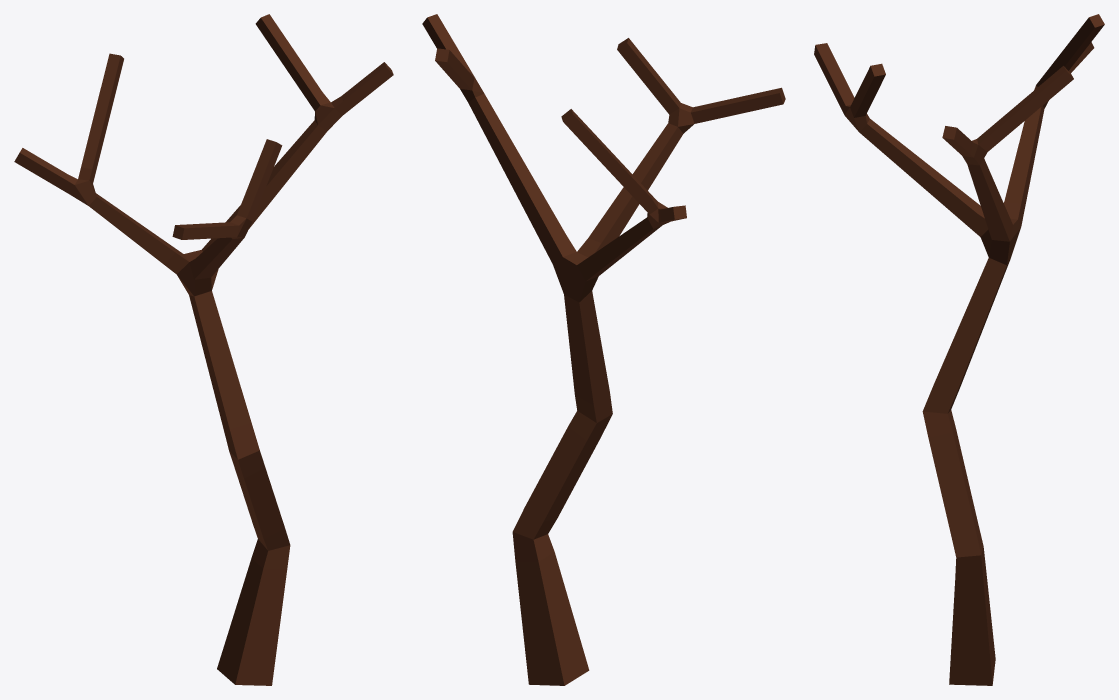
Rendered from DeadTree1.fbx.
3 views of the same model, side by side, from view 1: azimuth 30°, elevation 25°; view 2: azimuth 150°, elevation 25°; view 3: azimuth 270°, elevation 25° (orthographic). The views are drawn at different scales.
Visible parts, largest first — view 1: Cylinder; view 2: Cylinder; view 3: Cylinder.
Part boxes in pixels (x1,y1,x2,y2): Cylinder: [14, 14, 393, 685]; Cylinder: [422, 14, 785, 685]; Cylinder: [814, 14, 1104, 685].
Size of the model in its own units: 130 by 244 by 101.
